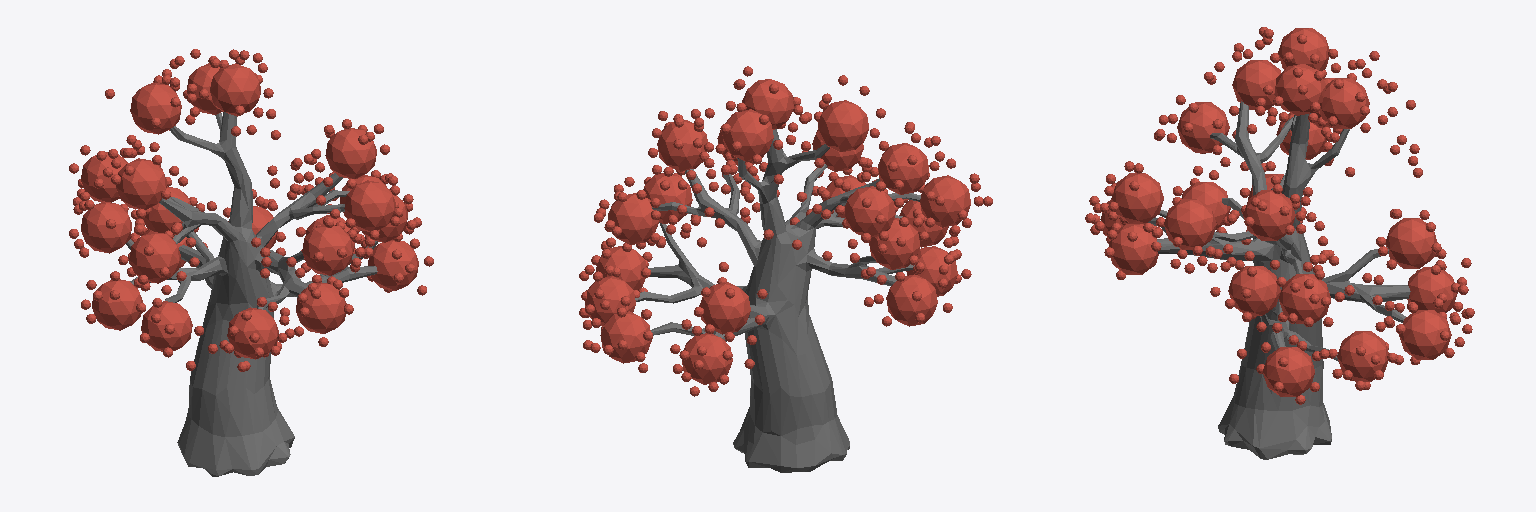
The model's file is sakura.obj.
3 renders of one model, left to right at view 1: azimuth 30°, elevation 25°; view 2: azimuth 150°, elevation 25°; view 3: azimuth 270°, elevation 25°, orthographic.
Parts seen in each view (by area): view 1: Trunk_Group1, Icosphere.015, Icosphere.009, Icosphere.004, Icosphere.014, Icosphere.008, Icosphere.006, Icosphere.017, Icosphere.007, Icosphere.003, Icosphere.002, Icosphere (+6 smaller); view 2: Trunk_Group1, Icosphere.008, Icosphere.011, Icosphere.003, Icosphere.005, Icosphere.006, Icosphere.010, Icosphere.007, Icosphere.013, Icosphere.016, Icosphere.014, Icosphere.012 (+8 smaller); view 3: Trunk_Group1, Icosphere.015, Icosphere.011, Icosphere.017, Icosphere.013, Icosphere.018, Icosphere.019, Icosphere.305_Icosphere.358, Icosphere, Icosphere.009, Icosphere.014, Icosphere.007 (+7 smaller).
Boxes of the visible parts, box(x1,y1,x2,y2) form: Trunk_Group1: box(126, 112, 377, 476); Icosphere.015: box(344, 180, 395, 231); Icosphere.009: box(210, 63, 260, 115); Icosphere.004: box(81, 201, 131, 253); Icosphere.014: box(325, 128, 376, 178); Icosphere.008: box(130, 82, 181, 134); Icosphere.006: box(116, 158, 166, 209); Icosphere.017: box(302, 224, 353, 275); Icosphere.007: box(129, 231, 180, 283); Icosphere.003: box(92, 279, 142, 330); Icosphere.002: box(141, 301, 192, 351); Icosphere: box(296, 282, 346, 333); Trunk_Group1: box(635, 129, 920, 472); Icosphere.008: box(818, 100, 868, 151); Icosphere.011: box(699, 282, 750, 334); Icosphere.003: box(886, 274, 937, 326); Icosphere.005: box(844, 186, 895, 237); Icosphere.006: box(878, 143, 928, 194); Icosphere.010: box(722, 109, 773, 161); Icosphere.007: box(920, 175, 970, 227); Icosphere.013: box(600, 311, 651, 363); Icosphere.016: box(608, 193, 658, 244); Icosphere.014: box(657, 120, 707, 171); Icosphere.012: box(682, 333, 732, 384); Trunk_Group1: box(1148, 101, 1410, 459); Icosphere.015: box(1164, 199, 1216, 249); Icosphere.011: box(1385, 218, 1437, 268); Icosphere.017: box(1111, 173, 1163, 223); Icosphere.013: box(1399, 310, 1451, 359); Icosphere.018: box(1263, 347, 1314, 396); Icosphere.019: box(1228, 266, 1280, 315); Icosphere.305_Icosphere.358: box(1337, 331, 1388, 381); Icosphere: box(1109, 224, 1158, 274); Icosphere.009: box(1274, 63, 1325, 115); Icosphere.014: box(1243, 190, 1295, 240); Icosphere.007: box(1177, 102, 1229, 152).
Bounding box in the file's own units: 15.38 × 16.09 × 14.7.